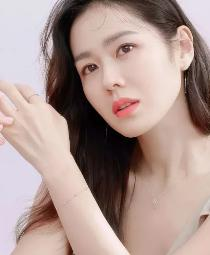face: (76, 16, 174, 134)
